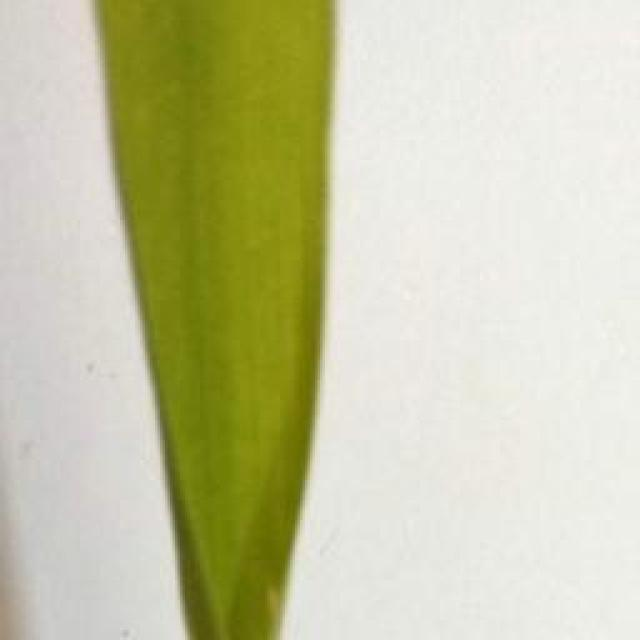Healthy-Plant: (93, 1, 335, 635)
